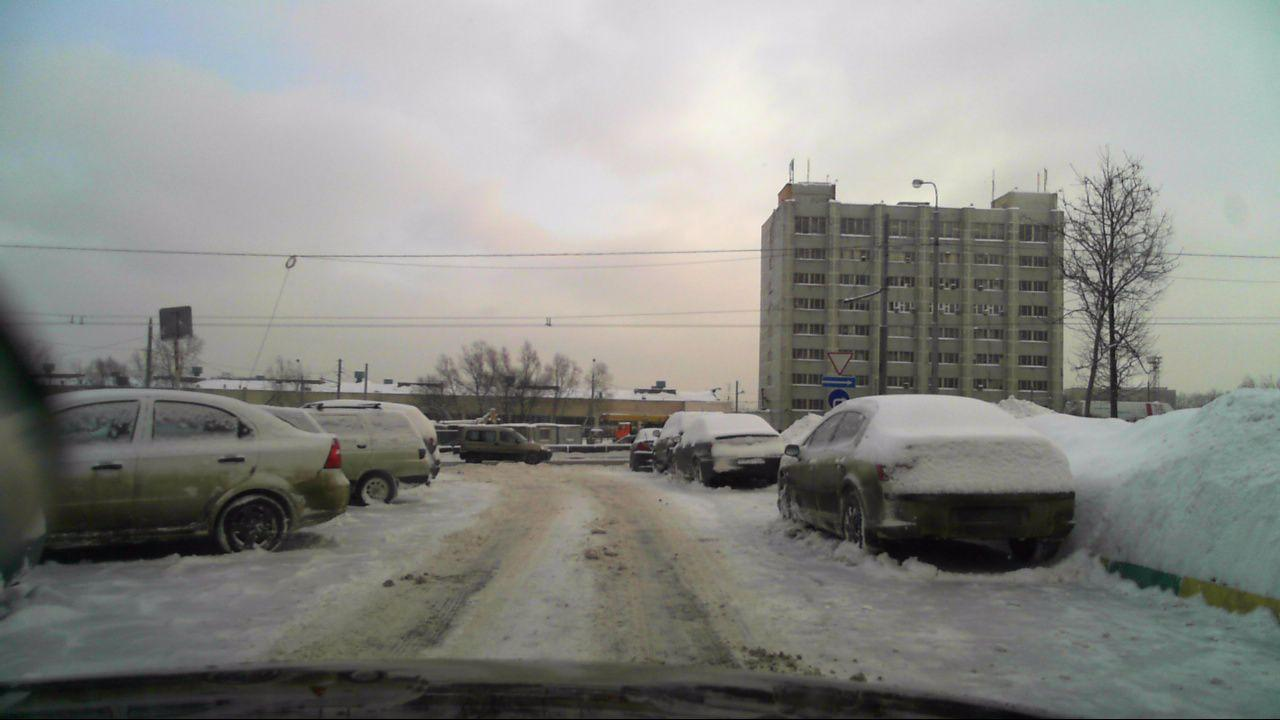obstructed_road_sign: (828, 389, 850, 409)
road_sign: (826, 351, 856, 375), (822, 376, 856, 388)
